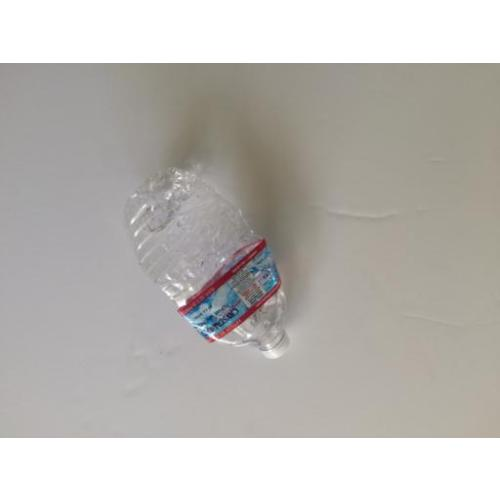plastic: (129, 166, 290, 361)
